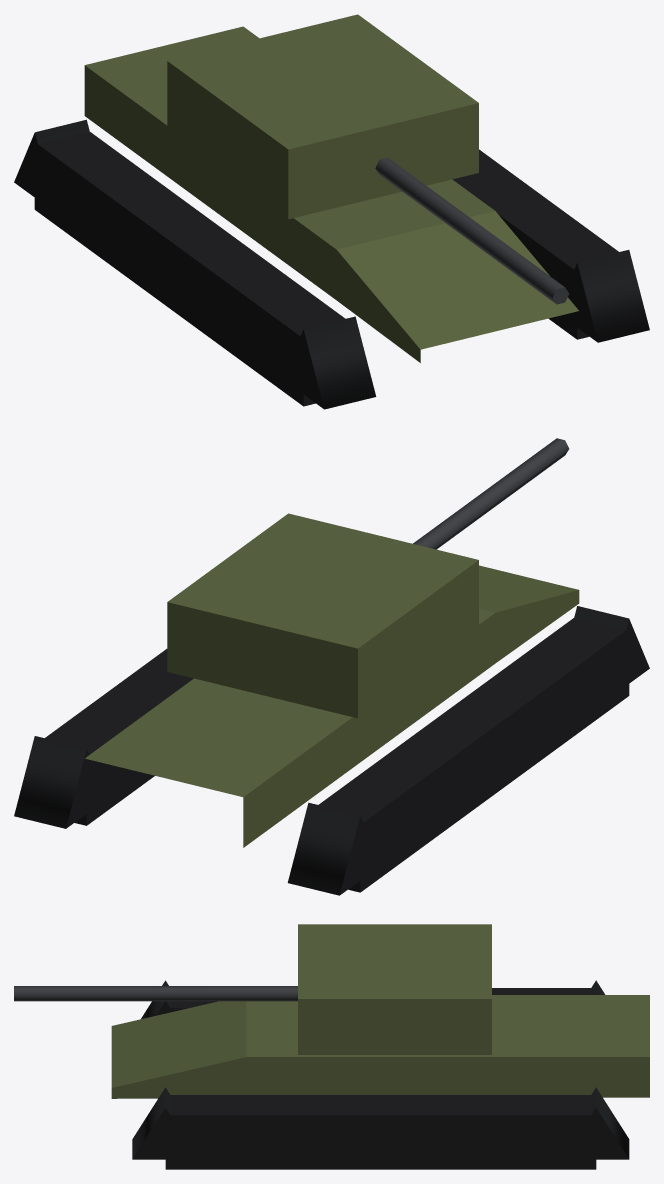
Rendered from veh_ground_tank_heavy_a08_lod2.glb.
3 views of the same model, one above another, from view 1: azimuth 30°, elevation 25°; view 2: azimuth 150°, elevation 25°; view 3: azimuth 270°, elevation 25° (orthographic). The views are drawn at different scales.
Visible parts, largest first — view 1: turret, body, track_r, track_l; view 2: turret, track_r, body, track_l; view 3: body, track_l, turret, track_r.
Boxes of the visible parts, bbox=[...] form: turret: bbox=[167, 14, 568, 304]; body: bbox=[84, 26, 578, 362]; track_r: bbox=[14, 119, 376, 409]; track_l: bbox=[452, 149, 649, 342]; turret: bbox=[167, 438, 569, 718]; track_r: bbox=[287, 606, 649, 895]; body: bbox=[85, 565, 579, 847]; track_l: bbox=[14, 649, 193, 828]; body: bbox=[111, 995, 649, 1098]; track_l: bbox=[132, 1087, 629, 1169]; turret: bbox=[14, 924, 491, 1054]; track_r: bbox=[141, 980, 605, 1018].
Size of the model in its own units: 4.27 by 2.26 by 9.02.
